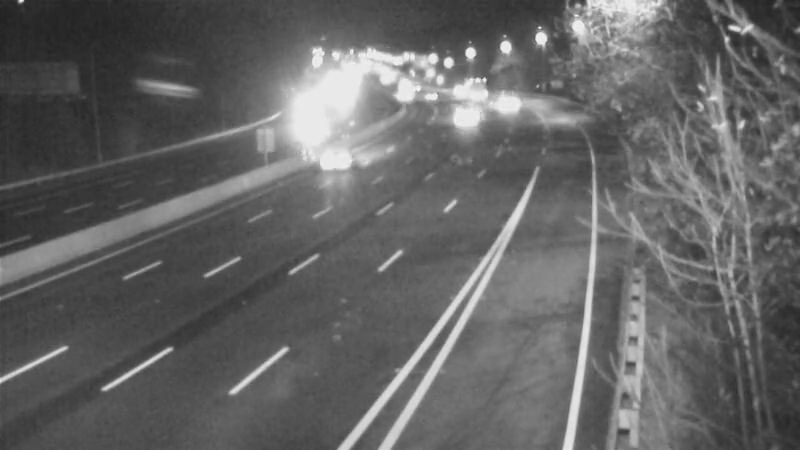vehicle: (303, 114, 383, 194), (456, 62, 506, 112), (406, 71, 456, 121), (379, 69, 429, 119), (481, 74, 531, 124), (433, 90, 483, 140), (275, 108, 325, 158)
